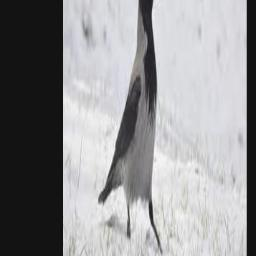Crow: (98, 0, 161, 253)
